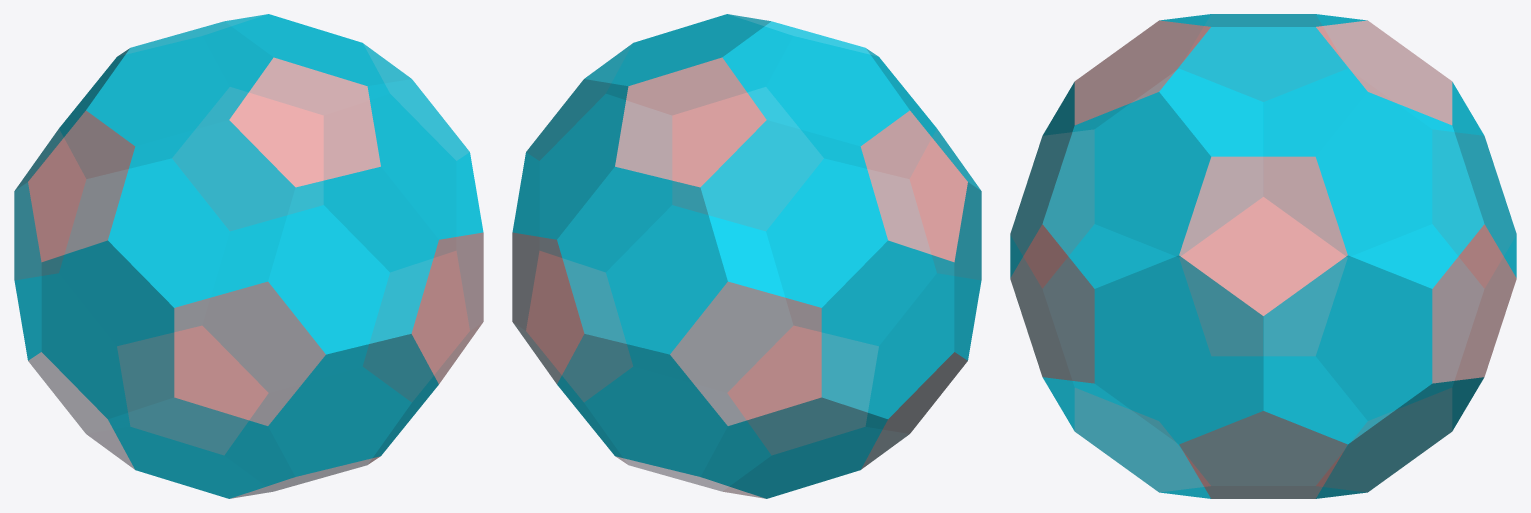
Rendered from TruncatedIcosahedron.obj.
The picture shows the model from 3 angles, left to right: view 1: azimuth 30°, elevation 25°; view 2: azimuth 150°, elevation 25°; view 3: azimuth 270°, elevation 25°; orthographic projection. The views are drawn at different scales.
Size of the model in its own units: 4.85 by 4.85 by 4.85.
